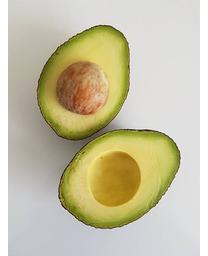avocado: (56, 127, 182, 230), (36, 24, 131, 141)
